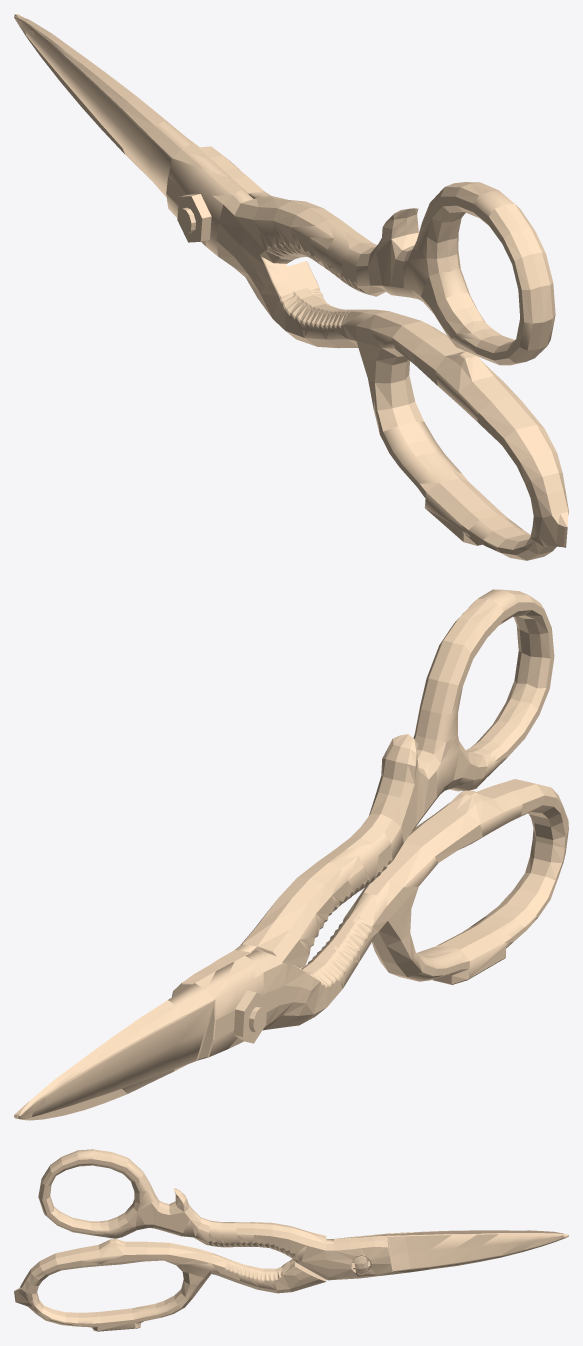
Rendered from scissors2_2.dae.
3 views of the same model, one above another, from view 1: azimuth 30°, elevation 25°; view 2: azimuth 150°, elevation 25°; view 3: azimuth 270°, elevation 25° (orthographic). The views are drawn at different scales.
Visible parts, largest first — view 1: M004947_019; view 2: M004947_019; view 3: M004947_019.
Boxes of the visible parts, x1,y1,x2,y2 form: M004947_019: (14, 14, 568, 560); M004947_019: (14, 589, 568, 1120); M004947_019: (14, 1149, 568, 1331).
Size of the model in its own units: 0.0176 by 0.253 by 0.0896.
